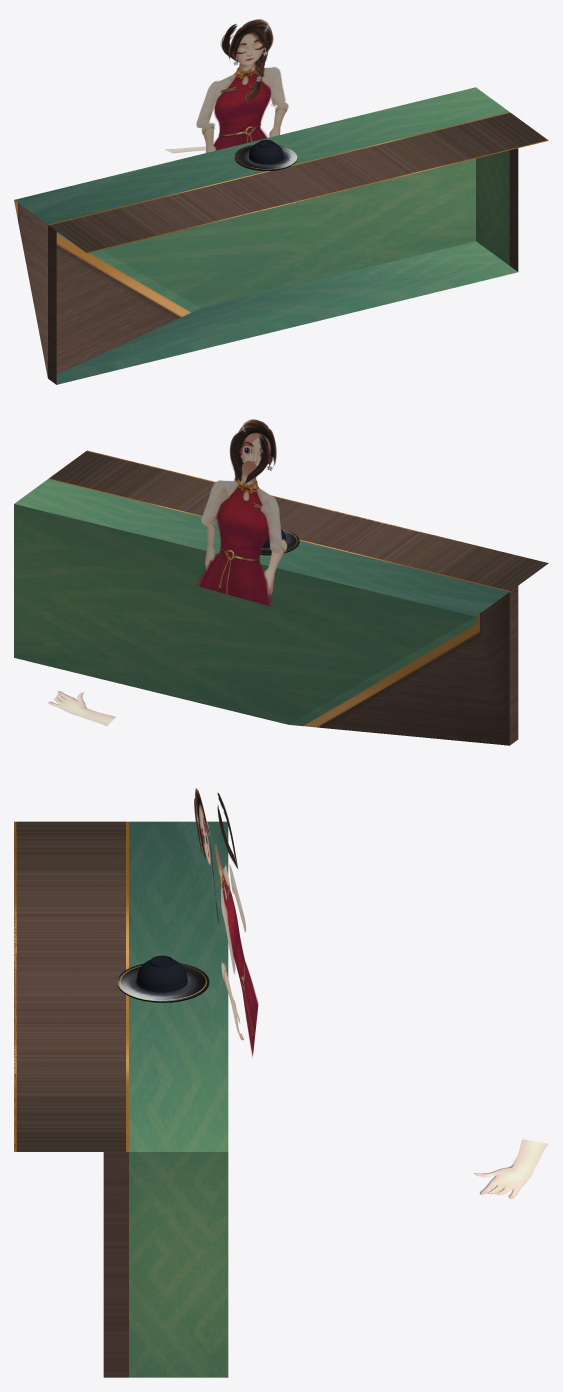
Rendered from 2D ANIMATION RESET.glb.
The picture shows the model from 3 angles, top to bottom: view 1: azimuth 30°, elevation 25°; view 2: azimuth 150°, elevation 25°; view 3: azimuth 270°, elevation 25°; orthographic projection. The views are drawn at different scales.
Parts seen in each view (by area): view 1: Cube, body, head, dish, Sphere, left upper hand; view 2: Cube, body, head, dish hand, left upper hand, right upper hand, left lower hand, right side hair group, left side hair group; view 3: Cube, body, dish hand, dish, Sphere.
Boxes of the visible parts, x1,y1,x2,y2 form: Cube: (14, 87, 548, 384); body: (213, 63, 279, 150); head: (228, 19, 273, 65); dish: (234, 145, 297, 170); Sphere: (248, 139, 283, 164); left upper hand: (196, 80, 218, 128); Cube: (14, 450, 548, 745); body: (196, 460, 276, 606); head: (238, 419, 276, 466); dish hand: (48, 691, 115, 726); left upper hand: (260, 498, 282, 553); right upper hand: (201, 480, 229, 527); left lower hand: (264, 539, 287, 596); right side hair group: (230, 430, 246, 481); left side hair group: (245, 435, 270, 483); Cube: (14, 821, 228, 1377); body: (215, 843, 258, 1057); dish hand: (474, 1139, 548, 1198); dish: (117, 963, 209, 1002); Sphere: (136, 955, 187, 992).
Bounding box in the file's own units: 6.28 × 3.74 × 4.3.
22 materials, 17 textured.
